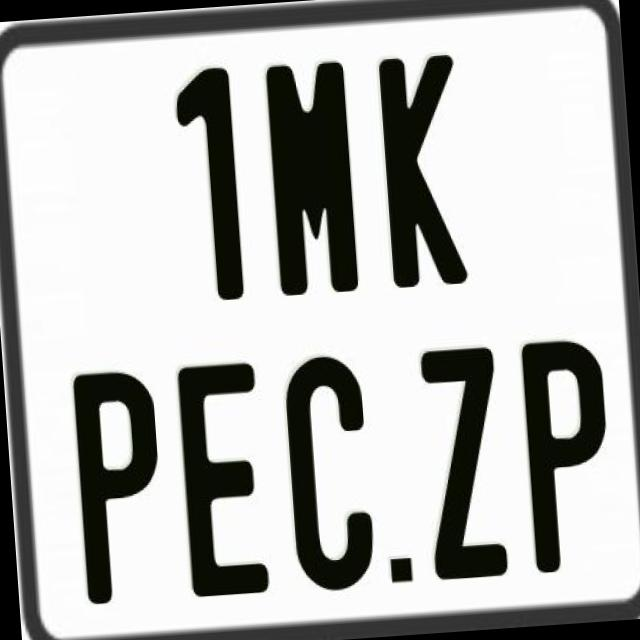1: (172, 65, 242, 310)
C: (281, 352, 379, 591)
E: (172, 358, 266, 598)
K: (378, 51, 470, 284)
M: (264, 57, 364, 296)
P: (517, 336, 618, 572), (73, 364, 168, 607)
Z: (420, 347, 508, 583)
